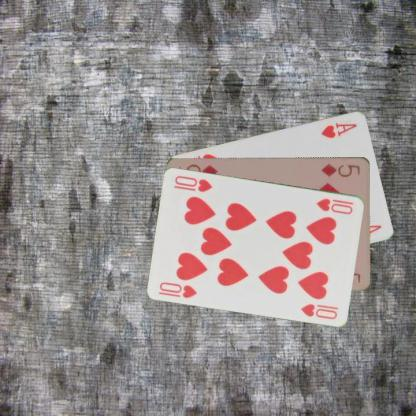10h: (314, 196, 356, 216), (157, 279, 198, 299)
5d: (319, 161, 361, 178)
Ah: (319, 120, 358, 139)
